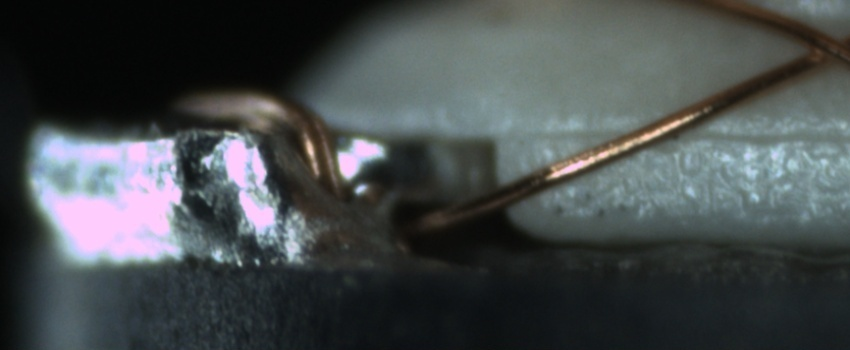CL: (781, 17, 848, 77)
DL: (523, 105, 847, 167)
TE: (178, 80, 353, 208)
